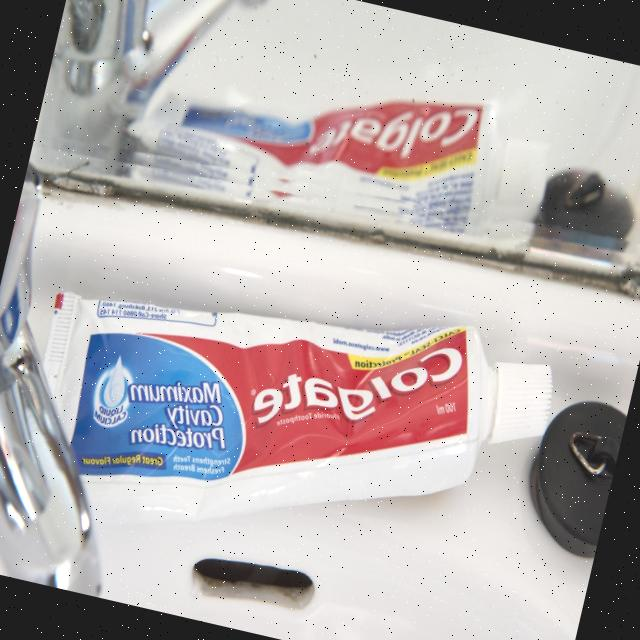Toothpaste: (0, 210, 573, 603)
